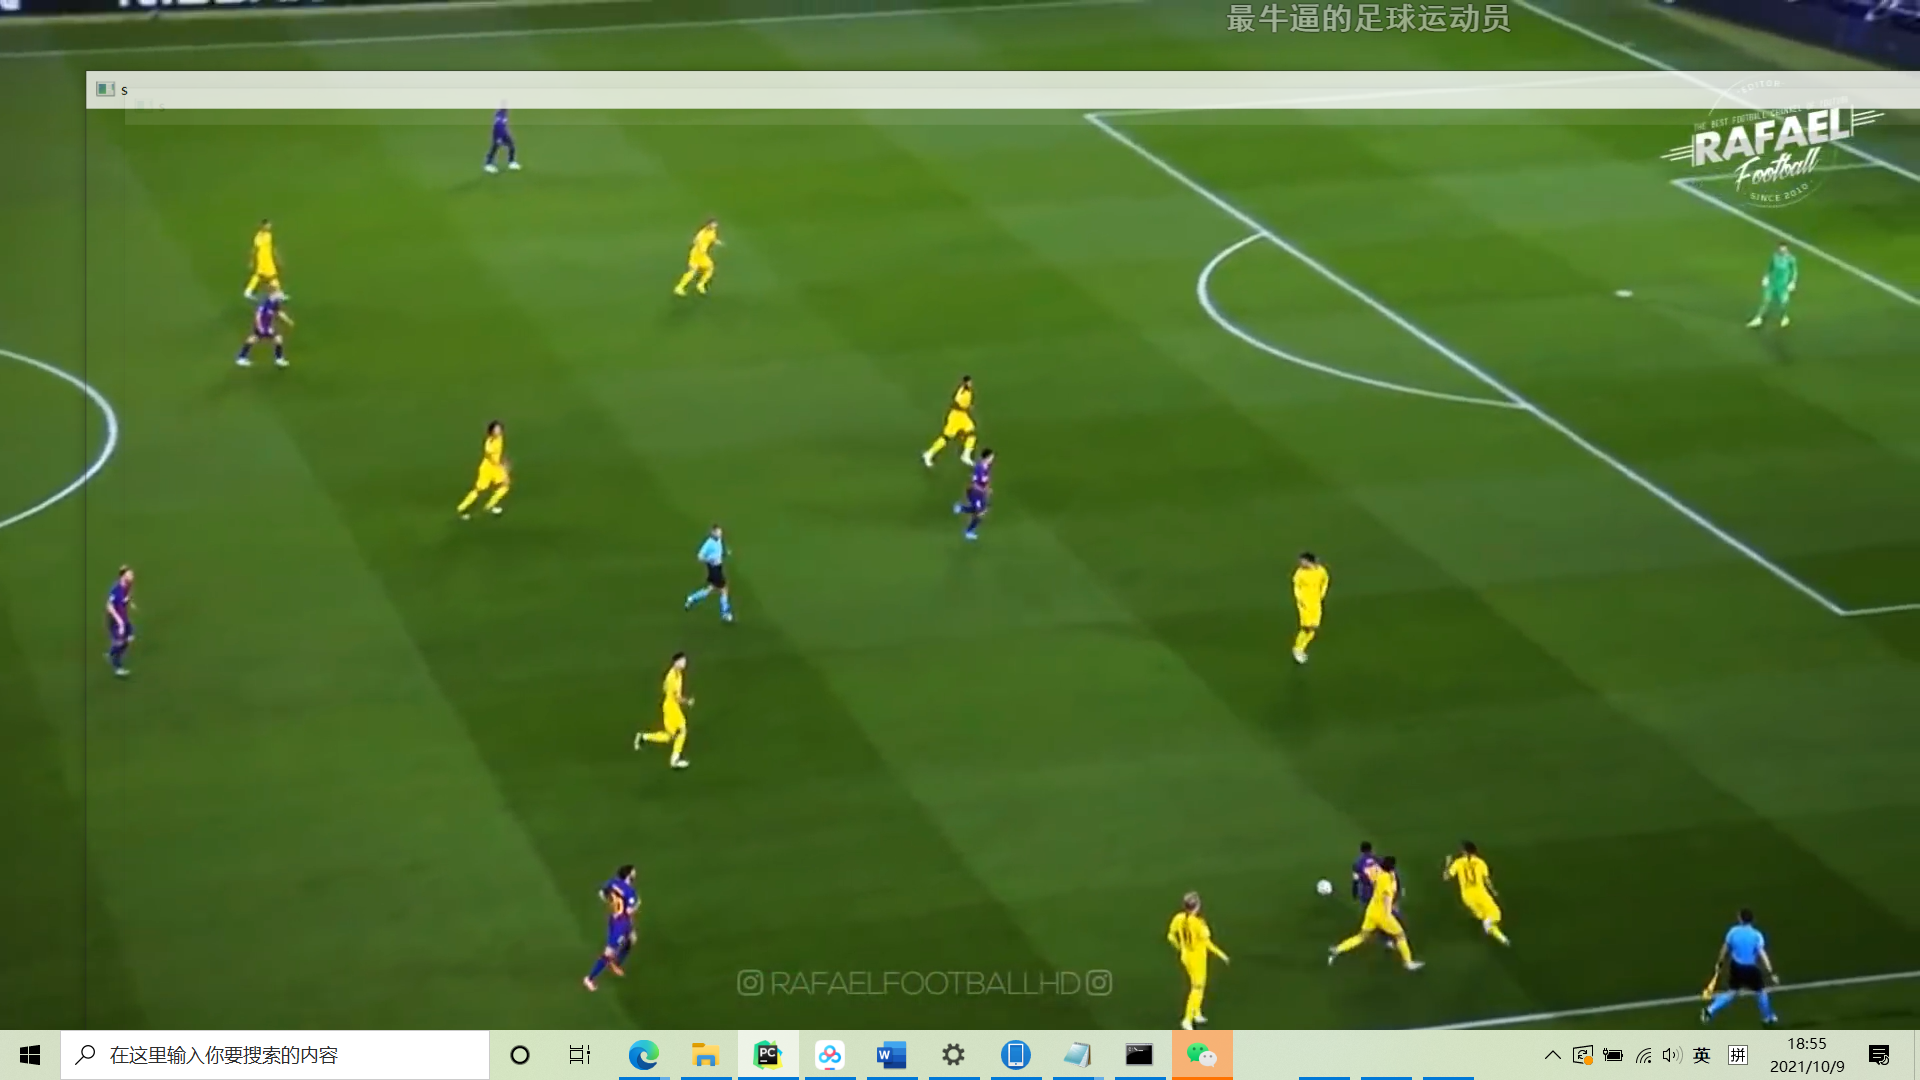ft: (1315, 877, 1335, 897)
